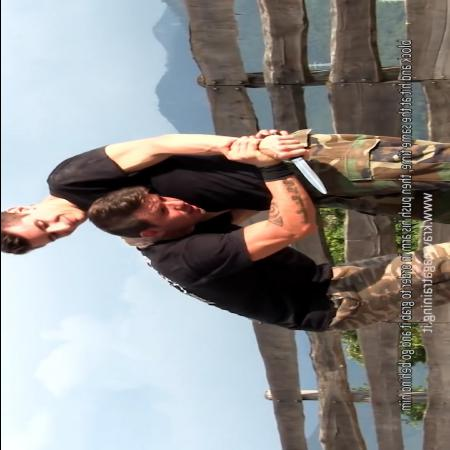long weapon: (261, 132, 333, 196)
